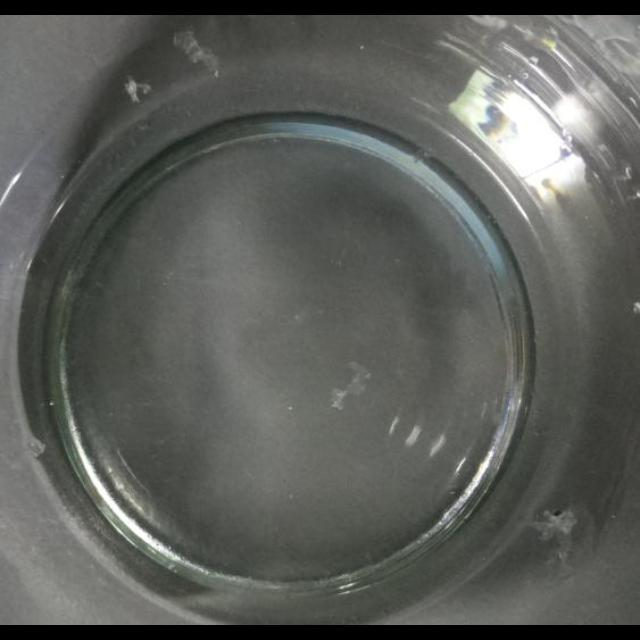Fibre: (172, 30, 220, 78), (330, 363, 372, 413), (532, 507, 576, 551), (124, 75, 150, 103), (329, 390, 348, 410), (28, 438, 46, 458)
microbeads: (635, 301, 640, 314)
